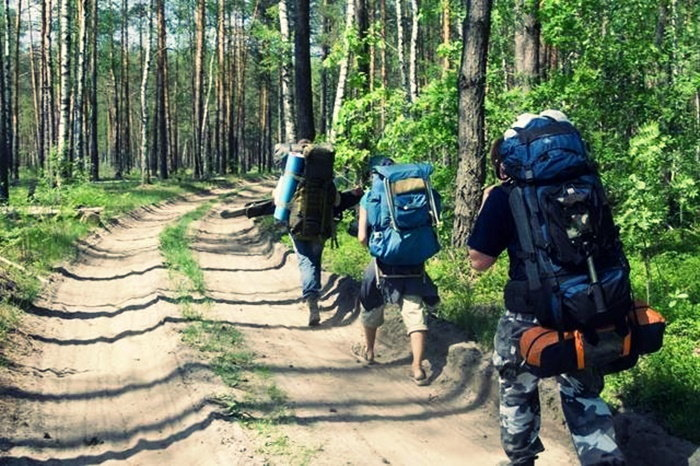backpack: (491, 114, 648, 330), (361, 160, 445, 265), (292, 141, 343, 243)
bag: (501, 304, 673, 371)
